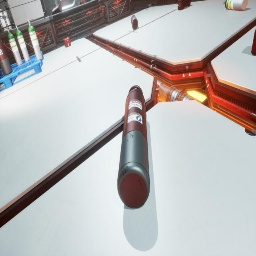0: (28, 18, 43, 61), (7, 26, 23, 66), (15, 23, 30, 62), (223, 0, 248, 11)
FireExtinguisher ]: (80, 0, 84, 5)
FirstAidBox ,: (251, 29, 256, 55), (178, 0, 190, 10), (63, 35, 71, 47)
NitrogenTank ,: (117, 85, 150, 208), (0, 36, 13, 76), (52, 3, 62, 15), (131, 15, 138, 30), (0, 69, 2, 76)
